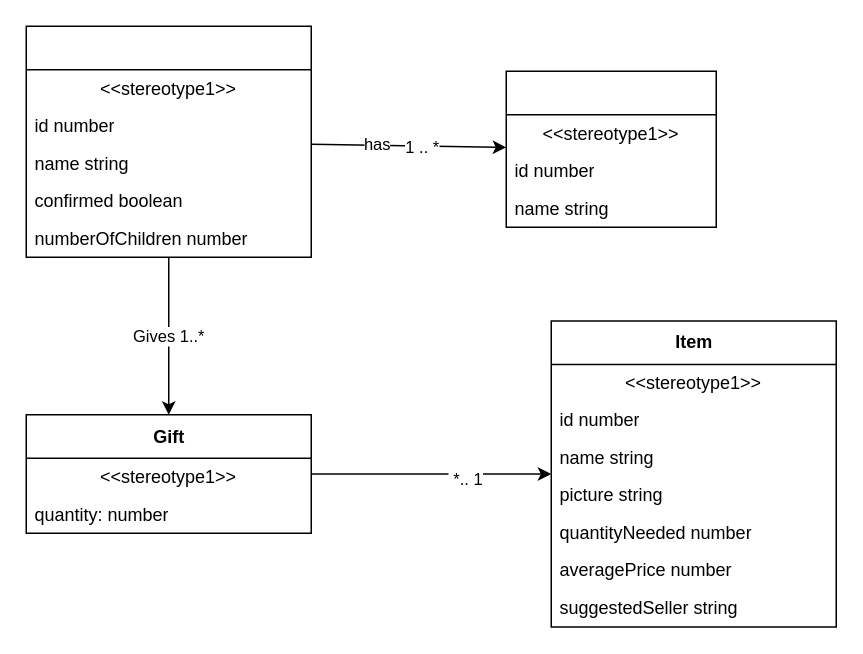
The diagram is 863 pixels wide and 654 high, and some of its shapes have lost their labels. Each missing label, with the box of its shape:
Escort: (505, 70, 716, 227)
Guest: (25, 25, 311, 257)
